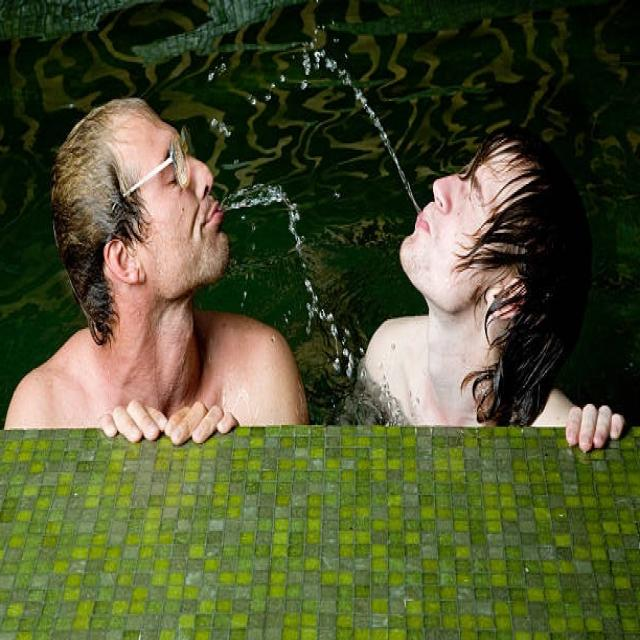Spitting: (364, 83, 576, 413), (45, 88, 266, 386)
